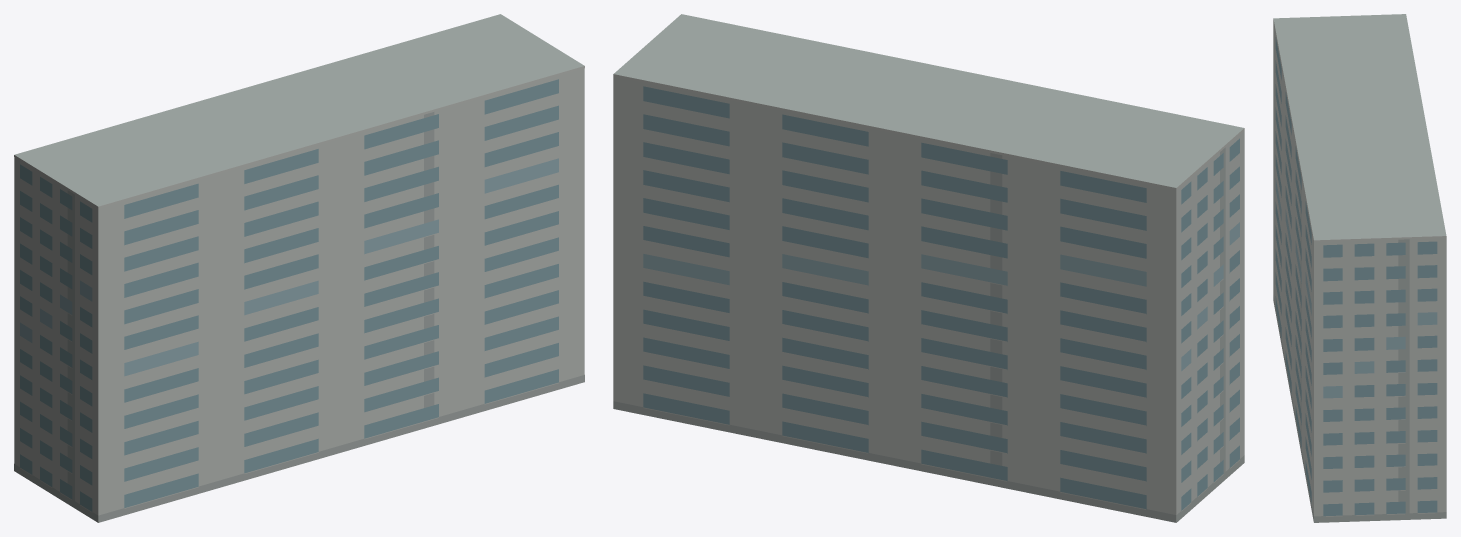
File: residential-cac37179-8da2-4566-8339-dcab72a16ea1.glb
3 views of the same model, side by side, from view 1: azimuth 30°, elevation 25°; view 2: azimuth 150°, elevation 25°; view 3: azimuth 270°, elevation 25° (orthographic). The views are drawn at different scales.
Parts seen in each view (by area): view 1: residential-cac37179-8da2-4566-8339-dcab72a16ea1.tmp; view 2: residential-cac37179-8da2-4566-8339-dcab72a16ea1.tmp; view 3: residential-cac37179-8da2-4566-8339-dcab72a16ea1.tmp.
Part boxes in pixels (left/top/right/bottom): residential-cac37179-8da2-4566-8339-dcab72a16ea1.tmp: left=14, top=14, right=584, bottom=522; residential-cac37179-8da2-4566-8339-dcab72a16ea1.tmp: left=613, top=14, right=1244, bottom=522; residential-cac37179-8da2-4566-8339-dcab72a16ea1.tmp: left=1273, top=14, right=1446, bottom=522.
Size of the model in its own units: 56.69 by 33 by 18.32.
